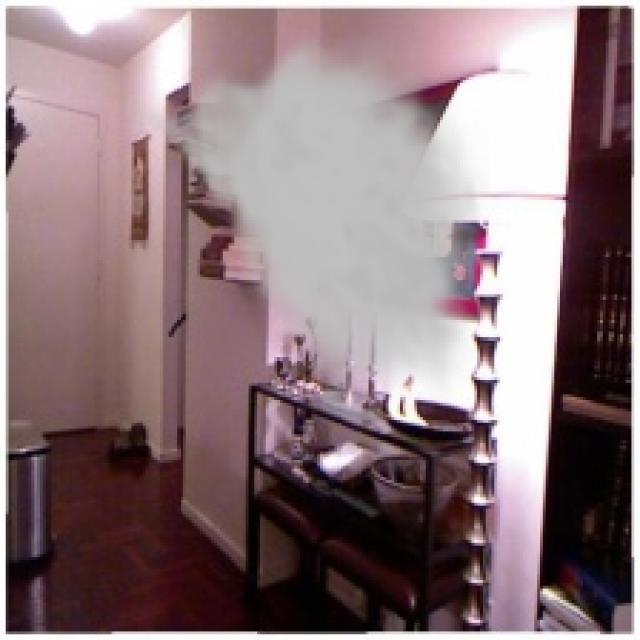Smoke: (117, 26, 489, 412)
